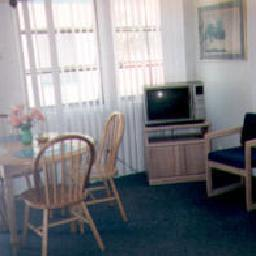Ventana: (16, 4, 112, 106), (110, 5, 171, 103)
